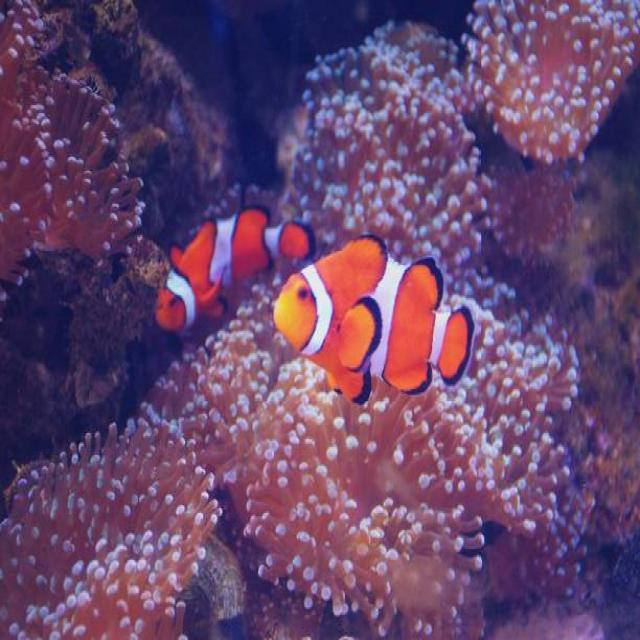ClownFish: (275, 237, 478, 405), (156, 210, 312, 326)
